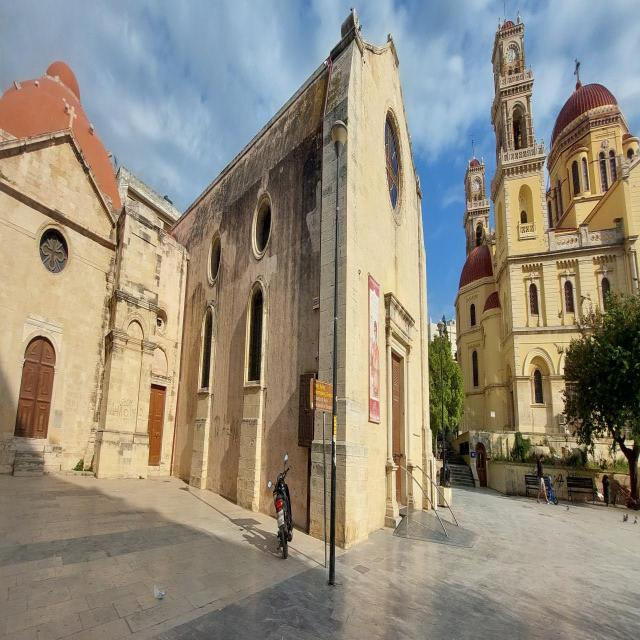Agia Aikaterini: (2, 2, 436, 543)
